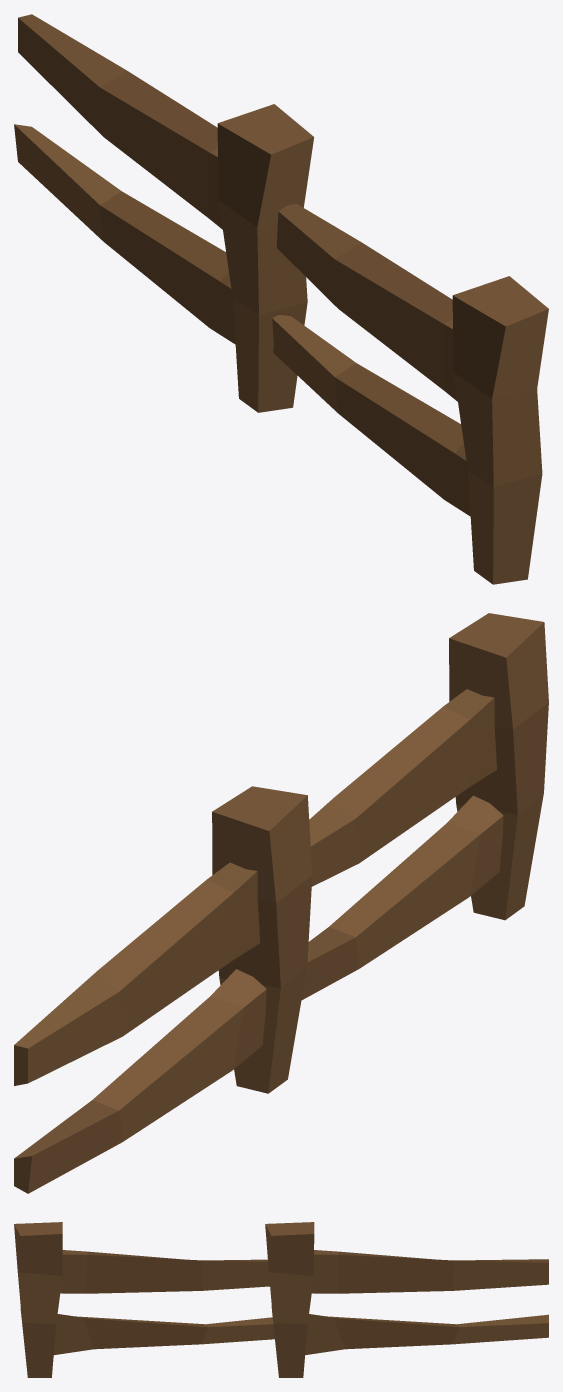
Rendered from Fence.fbx.
3 views of the same model, one above another, from view 1: azimuth 30°, elevation 25°; view 2: azimuth 150°, elevation 25°; view 3: azimuth 270°, elevation 25° (orthographic). The views are drawn at different scales.
Parts seen in each view (by area): view 1: Zaun, ZaunPfahl; view 2: Zaun, ZaunPfahl; view 3: Zaun, ZaunPfahl.
Boxes of the visible parts, bbox=[...] form: Zaun: bbox=[14, 14, 548, 584]; ZaunPfahl: bbox=[217, 104, 274, 410]; Zaun: bbox=[14, 613, 548, 1193]; ZaunPfahl: bbox=[212, 811, 287, 1093]; Zaun: bbox=[14, 1222, 548, 1377]; ZaunPfahl: bbox=[272, 1222, 314, 1377].
Bounding box in the file's own units: 0.1001 × 0.4426 × 1.45.
